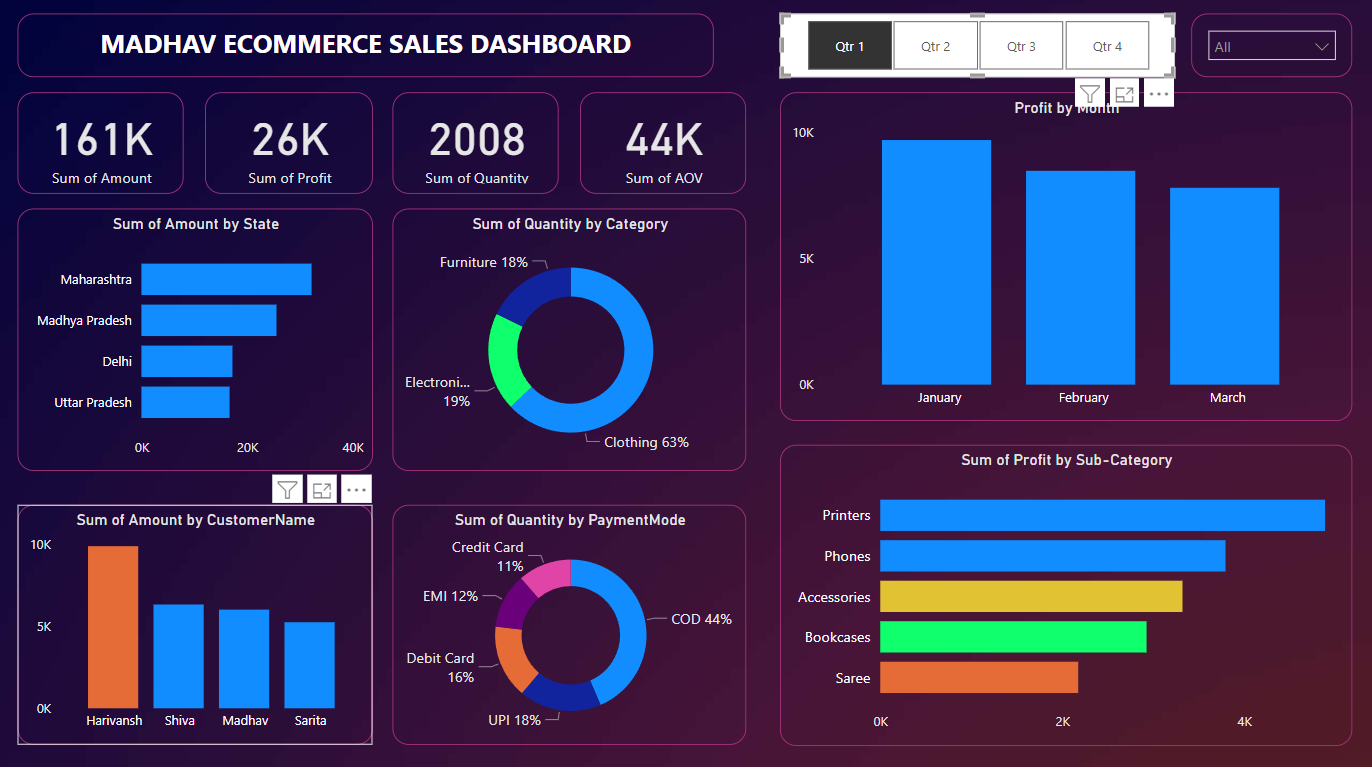

The dashboard page shown, as its layout file describes it:
{"tool":"powerbi","page":{"name":"Page 1","canvas":[1280,720],"ordinal":0},"visuals":[{"type":"textbox","box":[16.3,16.3,647.2,59.3],"z":0},{"type":"columnChart","title":"Profit by Month","fields":{"Category":["Orders.Order Date.Variation.Date Hierarchy.Month"],"Y":["Details.Profit"]},"box":[725.1,89.5,532.2,305.6],"z":1000},{"type":"barChart","fields":{"Category":["Details.Sub-Category"],"Y":["Details.Profit"]},"box":[725.3,416.8,532,279.7],"z":2000},{"type":"donutChart","fields":{"Category":["Details.Category"],"Y":["Details.Quantity"]},"box":[364.7,197.4,329.1,244],"z":3000},{"type":"donutChart","fields":{"Category":["Details.PaymentMode","Details.Category"],"Y":["Details.Quantity"]},"box":[364.7,473,329.1,223.5],"z":4000},{"type":"card","fields":{"Values":["Details.Amount"]},"box":[16.3,89.5,154.5,94.1],"z":5000},{"type":"card","fields":{"Values":["Details.Profit"]},"box":[190.6,89.5,155.7,94.1],"z":6000},{"type":"card","fields":{"Values":["Details.Quantity"]},"box":[364.9,89.5,154.5,94.1],"z":7000},{"type":"card","fields":{"Values":["Details.AOV"]},"box":[539.1,89.5,154.5,94.1],"z":8000},{"type":"barChart","fields":{"Category":["Orders.State"],"Y":["Details.Amount"]},"box":[16.5,197.4,330.4,244],"z":9000},{"type":"columnChart","fields":{"Category":["Orders.CustomerName"],"Y":["Details.Amount"]},"box":[16,473,330,223],"z":10000},{"type":"slicer","fields":{"Values":["Orders.Order Date.Variation.Date Hierarchy.Quarter"]},"box":[725.1,16.3,367.2,59.3],"z":10001},{"type":"slicer","fields":{"Values":["Orders.State"]},"box":[1107.3,16.3,149.9,59.3],"z":10002}]}

Visuals, with their boxes in screenshot pixels (x1, y1, x2, y2), scaled from the page's 1280x720 canvas onto the 1372x767 screenshot:
textbox: (17, 17, 711, 81)
"Profit by Month" columnChart: (777, 95, 1348, 421)
barChart - Details.Sub-Category x Details.Profit: (777, 444, 1348, 742)
donutChart - Details.Category x Details.Quantity: (391, 210, 744, 470)
donutChart - Details.PaymentMode x Details.Category: (391, 504, 744, 742)
card - Details.Amount: (17, 95, 183, 196)
card - Details.Profit: (204, 95, 371, 196)
card - Details.Quantity: (391, 95, 557, 196)
card - Details.AOV: (578, 95, 743, 196)
barChart - Orders.State x Details.Amount: (18, 210, 372, 470)
columnChart - Orders.CustomerName x Details.Amount: (17, 504, 371, 741)
slicer - Orders.Order Date.Variation.Date Hierarchy.Quarter: (777, 17, 1171, 81)
slicer - Orders.State: (1187, 17, 1348, 81)
